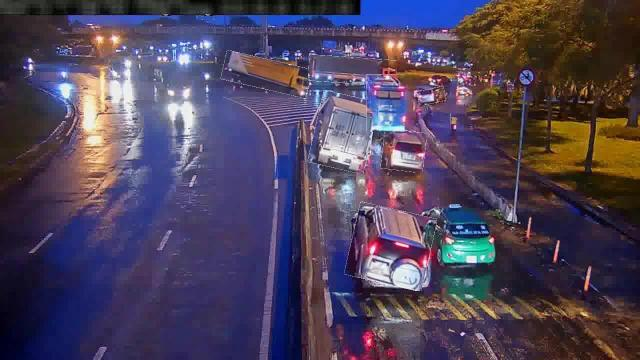Bike: (451, 114, 457, 130)
Bus: (367, 74, 405, 132)
Car: (348, 206, 434, 288), (382, 130, 426, 172), (418, 88, 446, 104)
Truck: (312, 93, 376, 171), (222, 55, 310, 93), (308, 56, 398, 84)
